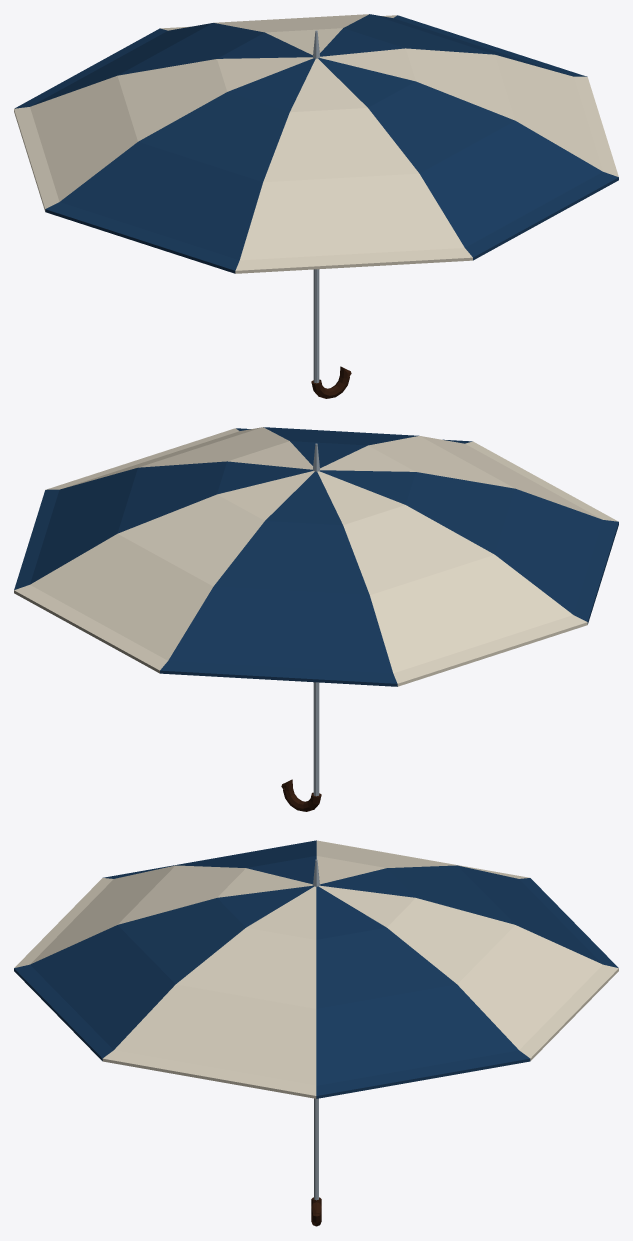
The model's file is ACCESSORY_05_Umbrella.obj.
3 renders of one model, top to bottom at view 1: azimuth 30°, elevation 25°; view 2: azimuth 150°, elevation 25°; view 3: azimuth 270°, elevation 25°, orthographic. The views are drawn at different scales.
Parts seen in each view (by area): view 1: ACCESSORY_05_Umbrella_Canopy, ACCESSORY_05_Umbrella_Shaft, ACCESSORY_05_Umbrella_Handle; view 2: ACCESSORY_05_Umbrella_Canopy, ACCESSORY_05_Umbrella_Shaft, ACCESSORY_05_Umbrella_Handle; view 3: ACCESSORY_05_Umbrella_Canopy.
Boxes of the visible parts, x1=… form: ACCESSORY_05_Umbrella_Canopy: x1=14, y1=14, x2=618, y2=273; ACCESSORY_05_Umbrella_Shaft: x1=313, y1=269, x2=319, y2=383; ACCESSORY_05_Umbrella_Handle: x1=311, y1=366, x2=351, y2=398; ACCESSORY_05_Umbrella_Canopy: x1=14, y1=427, x2=618, y2=686; ACCESSORY_05_Umbrella_Shaft: x1=313, y1=682, x2=319, y2=796; ACCESSORY_05_Umbrella_Handle: x1=281, y1=779, x2=321, y2=811; ACCESSORY_05_Umbrella_Canopy: x1=14, y1=840, x2=618, y2=1098.
Size of the model in its own units: 1.52 by 0.9922 by 1.52.
